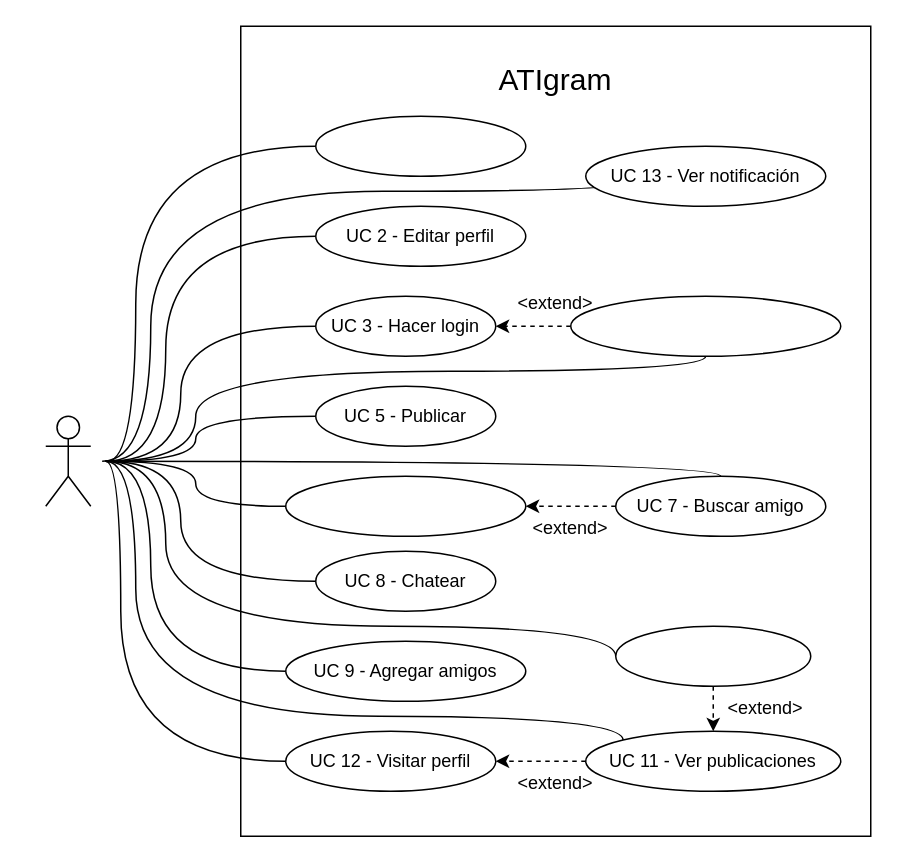
This 897x863 diagram has some shape labels left out. The centre of each missing label's shape, as x and y in pixels:
Estudiante: the point at 67,460
UC 1 - Crear usuario: the point at 420,145
UC 10 - Comentar: the point at 712,655
UC 4 - Recuperar contraseña: the point at 705,325
UC 6 - Ver lista de amigos: the point at 405,505
